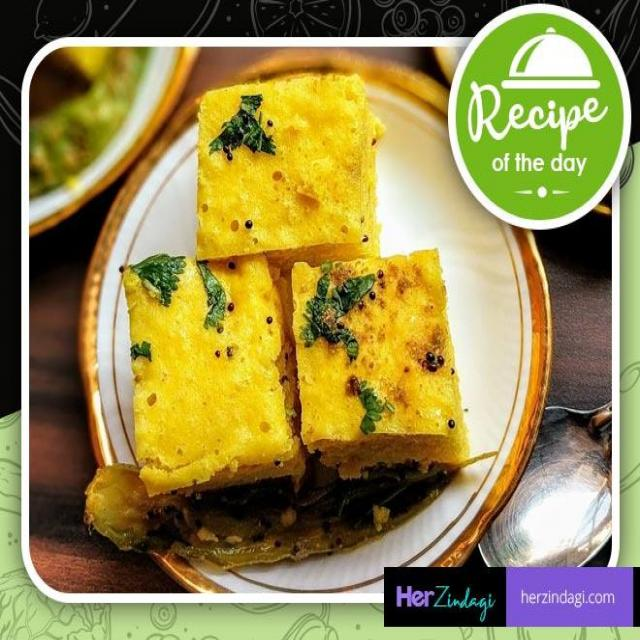dhokla: (113, 76, 467, 480)
